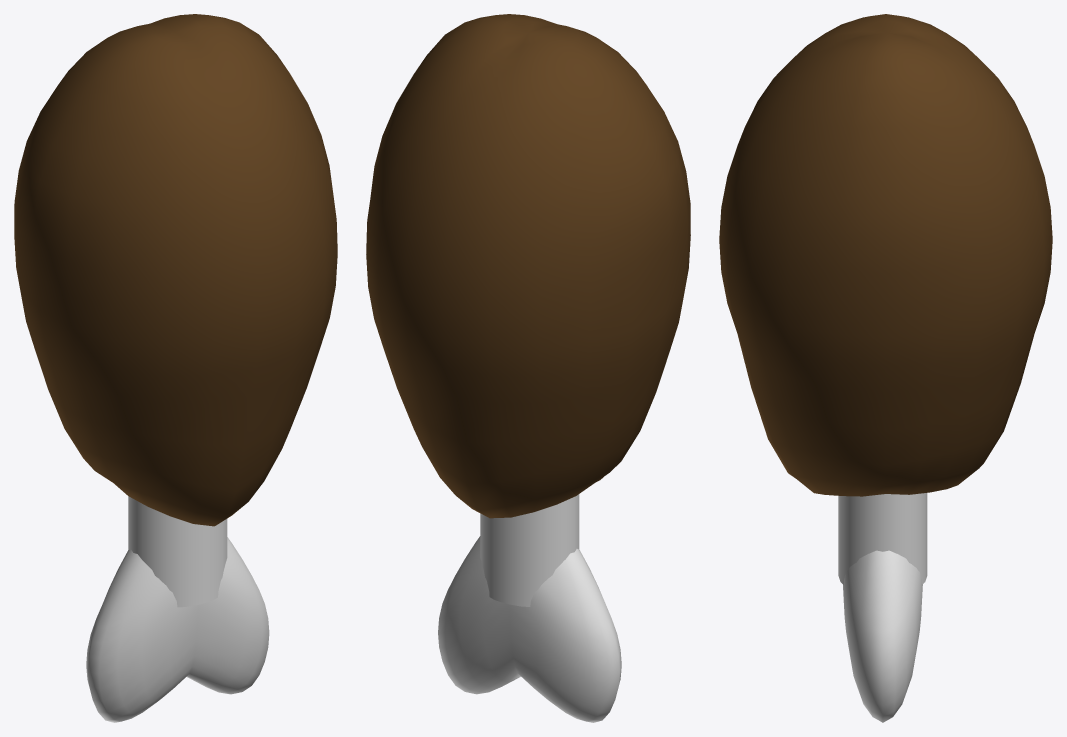
File: Food.fbx
3 views of the same model, side by side, from view 1: azimuth 30°, elevation 25°; view 2: azimuth 150°, elevation 25°; view 3: azimuth 270°, elevation 25° (orthographic). The views are drawn at different scales.
Parts seen in each view (by area): view 1: pasted__pasted__pasted__pSphere4; view 2: pasted__pasted__pasted__pSphere4; view 3: pasted__pasted__pasted__pSphere4.
Part boxes in pixels (bbox=[...]): pasted__pasted__pasted__pSphere4: bbox=[14, 14, 337, 722]; pasted__pasted__pasted__pSphere4: bbox=[366, 14, 690, 722]; pasted__pasted__pasted__pSphere4: bbox=[719, 14, 1052, 722].
Bounding box in the file's own units: 0.3133 × 0.7242 × 0.3293.
